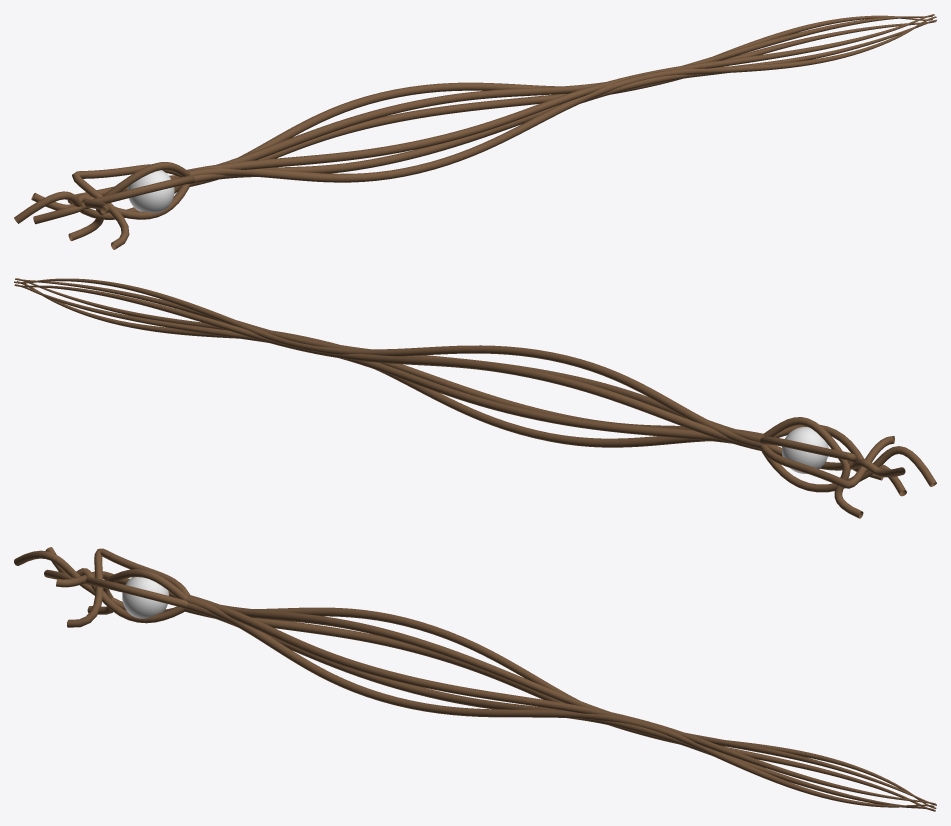
The model's file is staff-preview.glb.
3 renders of one model, top to bottom at view 1: azimuth 30°, elevation 25°; view 2: azimuth 150°, elevation 25°; view 3: azimuth 330°, elevation 25°, orthographic.
Visible parts, largest first — view 1: BezierCurve.003, BezierCurve.007, BezierCurve.009, GG, BezierCurve.004, BezierCurve.005, BezierCurve.006; view 2: BezierCurve.003, BezierCurve.005, BezierCurve.008, BezierCurve.004, GG, BezierCurve.007, BezierCurve.009, BezierCurve.006; view 3: BezierCurve.003, BezierCurve.007, GG, BezierCurve.009, BezierCurve.006, BezierCurve.004, BezierCurve.005.
Boxes of the visible parts, x1=… form: BezierCurve.003: x1=187, y1=14, x2=936, y2=186; BezierCurve.007: x1=72, y1=164, x2=182, y2=249; BezierCurve.009: x1=33, y1=175, x2=194, y2=224; GG: x1=127, y1=170, x2=174, y2=212; BezierCurve.004: x1=68, y1=162, x2=190, y2=240; BezierCurve.005: x1=14, y1=185, x2=181, y2=223; BezierCurve.006: x1=31, y1=184, x2=190, y2=219; BezierCurve.003: x1=14, y1=278, x2=764, y2=450; BezierCurve.005: x1=761, y1=446, x2=936, y2=492; BezierCurve.008: x1=759, y1=436, x2=894, y2=488; BezierCurve.004: x1=763, y1=417, x2=863, y2=518; GG: x1=782, y1=427, x2=828, y2=473; BezierCurve.007: x1=760, y1=436, x2=883, y2=480; BezierCurve.009: x1=773, y1=425, x2=906, y2=496; BezierCurve.006: x1=767, y1=444, x2=905, y2=477; BezierCurve.003: x1=182, y1=594, x2=936, y2=811; BezierCurve.007: x1=67, y1=548, x2=189, y2=627; GG: x1=122, y1=577, x2=168, y2=618; BezierCurve.009: x1=44, y1=569, x2=187, y2=608; BezierCurve.006: x1=45, y1=547, x2=184, y2=623; BezierCurve.004: x1=87, y1=569, x2=187, y2=614; BezierCurve.005: x1=14, y1=550, x2=177, y2=612.
Size of the model in its own units: 2.39 by 0.1819 by 0.2125.
